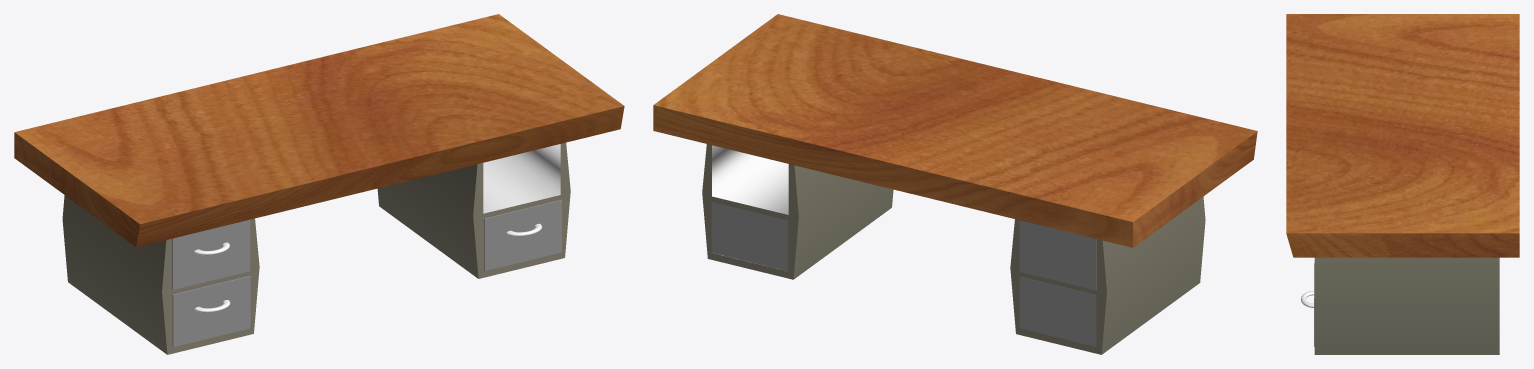
Rendered from Escriotorio_s.obj.
The picture shows the model from 3 angles, left to right: view 1: azimuth 30°, elevation 25°; view 2: azimuth 150°, elevation 25°; view 3: azimuth 270°, elevation 25°; orthographic projection. The views are drawn at different scales.
Size of the model in its own units: 13.17 by 3.96 by 5.92.
5 materials, 4 textured.
